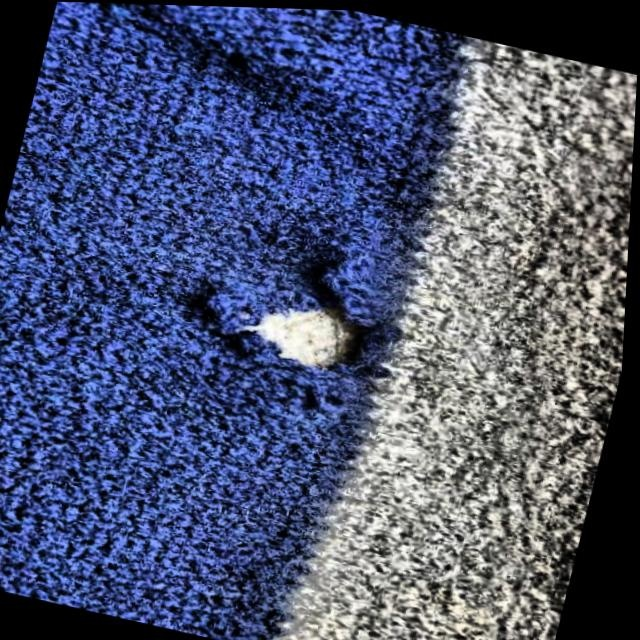Hole: (170, 211, 424, 440)
